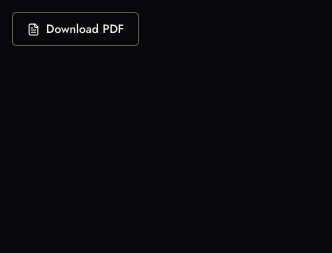
Test: Ticket C-UI · DownloadPdfButton › shows visible success feedback after a successful download
The width and height of the screenshot is (332, 253).
Step 1. Click the button with test id "health-pdf-download-btn" → (76,29), box [12,12,139,46]
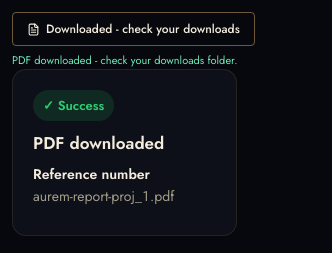
Result: the message with test id "health-pdf-download-success" is shown at [12,52,238,236]
Result: the button with test id "health-pdf-download-btn" shows "Downloaded" at [12,12,255,46]
